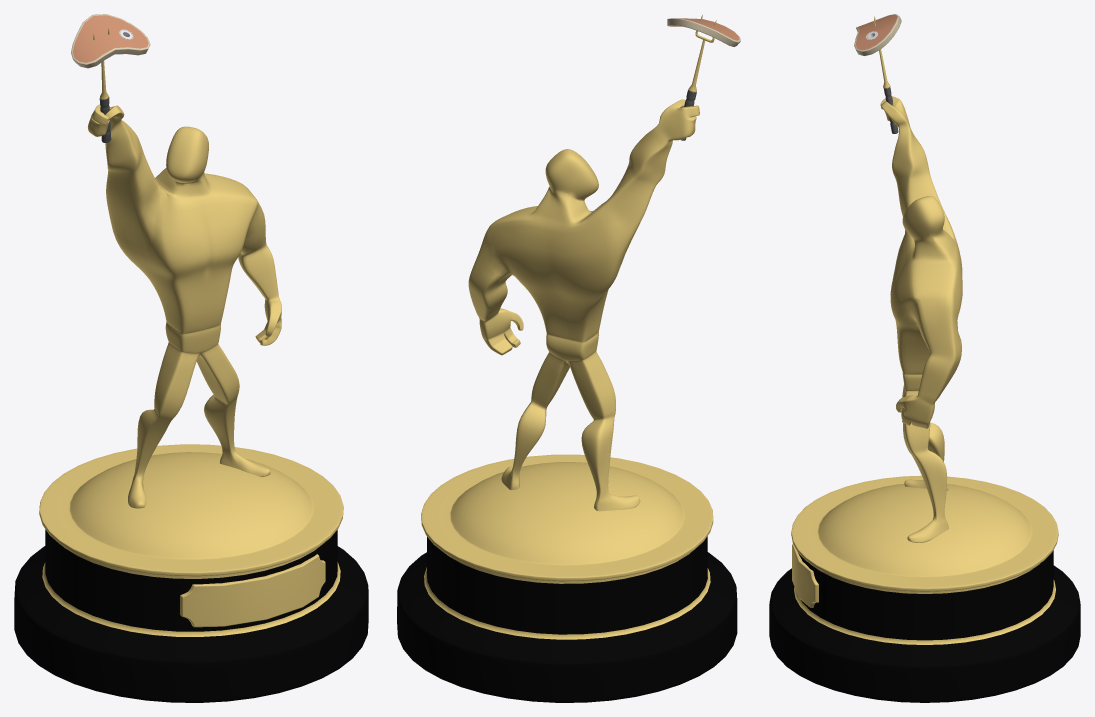
File: gog_Steakholder2_mesh.fbx
The picture shows the model from 3 angles, left to right: view 1: azimuth 30°, elevation 25°; view 2: azimuth 150°, elevation 25°; view 3: azimuth 270°, elevation 25°; orthographic projection. The views are drawn at different scales.
Visible parts, largest first — view 1: pasted__polySurface10; view 2: pasted__polySurface10; view 3: pasted__polySurface10.
Part boxes in pixels (left/top/right/bottom): pasted__polySurface10: left=14, top=14, right=368, bottom=702; pasted__polySurface10: left=397, top=14, right=740, bottom=702; pasted__polySurface10: left=769, top=14, right=1080, bottom=702.
Bounding box in the file's own units: 29.44 × 59.8 × 29.44.
